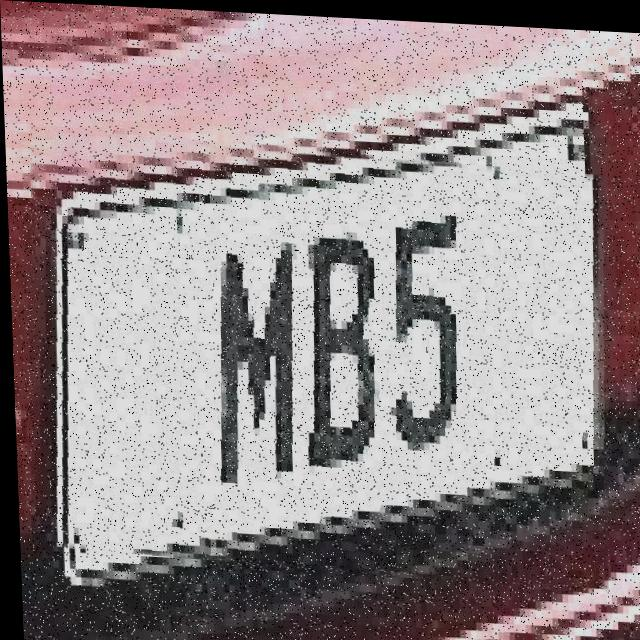LicensePlate: (18, 131, 615, 584)
